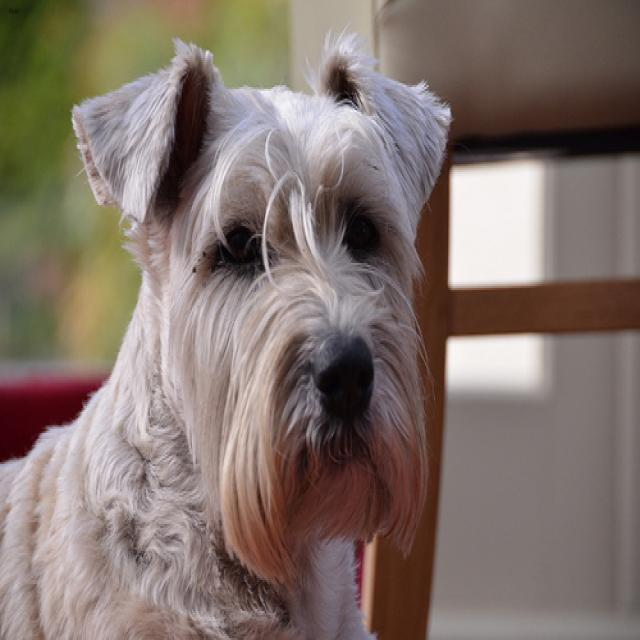dog-wheaten_terrier: (1, 23, 454, 636)
